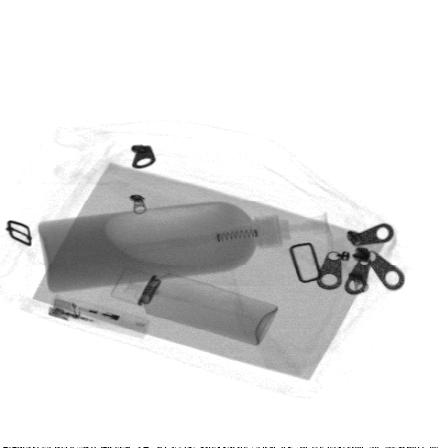Lighter: (47, 294, 151, 340)
Sprayer: (110, 266, 278, 346)
